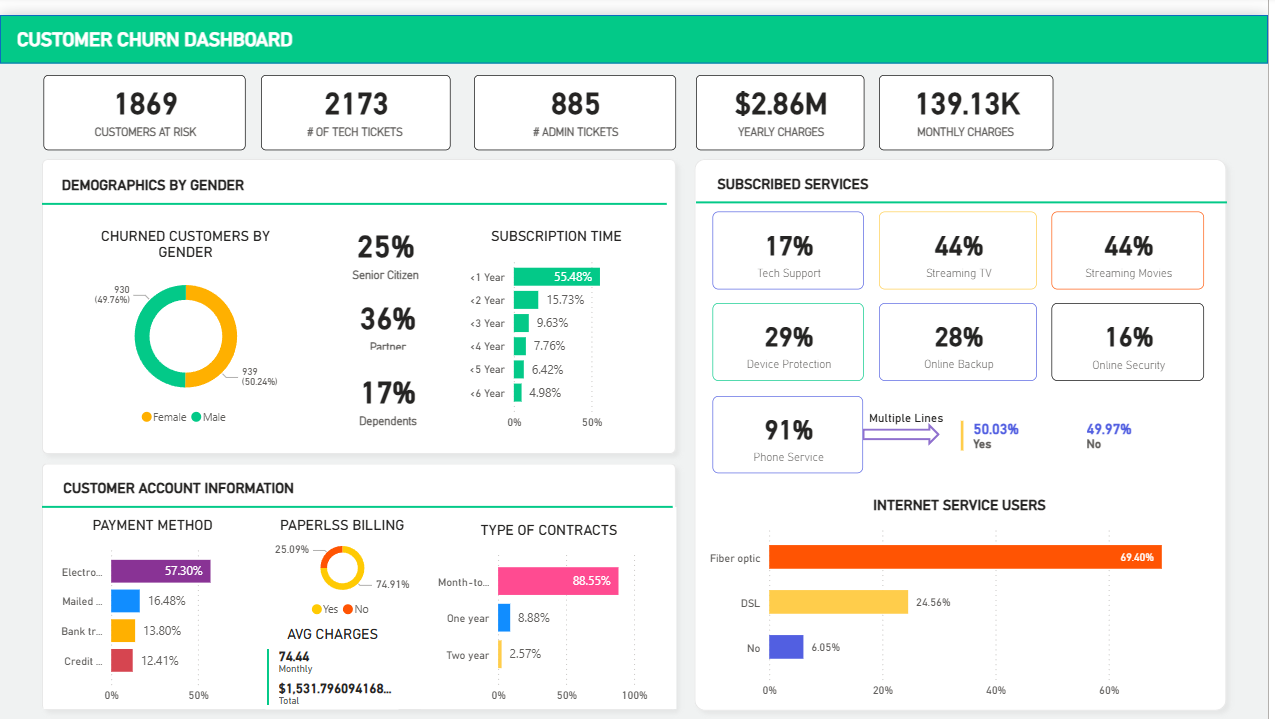

Layout of this report page (visuals, bound fields, positions):
{"tool":"powerbi","page":{"name":"Churn Dashboard","canvas":[1280,720],"ordinal":0},"visuals":[{"type":"shape","box":[0,0,1280,49],"z":0},{"type":"shape","box":[34,136,658,316],"z":0,"group":"g1"},{"type":"card","fields":{"Values":["Churn.% Tech Support"]},"box":[720,199,152.4,78.4],"z":0,"group":"g4"},{"type":"shape","box":[692,136,555,575],"z":1000},{"type":"card","fields":{"Values":["Churn.% Streaming TV"]},"box":[887.4,199,159.5,78.4],"z":1000,"group":"g4"},{"type":"donutChart","title":"CHURNED CUSTOMERS BY GENDER","fields":{"Category":["01 Churn-Dataset.gender"],"Y":["CountNonNull(01 Churn-Dataset.gender)"]},"box":[61.1,204.4,252.2,223.4],"z":1000,"group":"g1"},{"type":"shape","box":[702,123,536,133],"z":1500,"group":"g3"},{"type":"shape","box":[42,430,636.8,133],"z":1500,"group":"g2"},{"type":"textbox","box":[12,8,438,33],"z":2000},{"type":"textbox","box":[703.8,145,522.6,38],"z":2000,"group":"g3"},{"type":"textbox","box":[42.7,146.1,630.9,47.3],"z":2000,"group":"g1"},{"type":"card","fields":{"Values":["Churn.% Streaming Movies"]},"box":[1062.8,199,154.2,78.4],"z":2000,"group":"g4"},{"type":"textbox","box":[44.2,452,636.8,38],"z":2000,"group":"g2"},{"type":"card","fields":{"Values":["Churn.% of Senior Citizen"]},"box":[330.5,204.4,118,77.5],"z":3000,"group":"g1"},{"type":"card","fields":{"Values":["Churn.% Device Protection"]},"box":[720,291.6,152.4,78.4],"z":3000,"group":"g4"},{"type":"shape","box":[34,444,658,267],"z":3000},{"type":"card","fields":{"Values":["CountNonNull(01 Churn-Dataset.customerID)"]},"box":[44,60,204,76],"z":4000},{"type":"card","fields":{"Values":["Churn.% of partner"]},"box":[329.5,278.9,125.5,74.5],"z":4000,"group":"g1"},{"type":"card","fields":{"Values":["Churn.% Online Backup"]},"box":[887.4,291.6,159.5,78.4],"z":4000,"group":"g4"},{"type":"shape","box":[42.7,151.1,630.9,78.5],"z":5000,"group":"g1"},{"type":"card","fields":{"Values":["Churn.% Online Sec"]},"box":[1062.8,291.6,154.2,78.4],"z":5000,"group":"g4"},{"type":"card","fields":{"Values":["Churn.% Phone Service"]},"box":[720,385,152,78],"z":5000},{"type":"card","fields":{"Values":["Sum(01 Churn-Dataset.numTechTickets)"]},"box":[264,60,191,76],"z":6000},{"type":"card","fields":{"Values":["Churn.% of Dependents"]},"box":[329.5,351.4,125.5,79.5],"z":6000,"group":"g1"},{"type":"clusteredBarChart","title":"SUBSCRIPTION TIME","fields":{"Y":["CountNonNull(Churn.Churn)"],"Category":["Churn.Tenure(in years)"]},"box":[466.9,204.4,190.5,220.4],"z":7000,"group":"g1"},{"type":"clusteredBarChart","title":"PAYMENT METHOD","fields":{"Y":["CountNonNull(Churn.PaymentMethod)"],"Category":["Churn.PaymentMethod"]},"box":[44,497,220,204],"z":7000},{"type":"card","fields":{"Values":["Sum(01 Churn-Dataset.TotalCharges)"]},"box":[702,60,170,76],"z":8000},{"type":"card","fields":{"Values":["Sum(01 Churn-Dataset.numAdminTickets)"]},"box":[479,60,204,76],"z":9000},{"type":"group","id":"g1","title":"Group 1","box":[34,136,658,316],"z":10000},{"type":"card","fields":{"Values":["Sum(01 Churn-Dataset.MonthlyCharges)"]},"box":[887,60,176,76],"z":11000},{"type":"donutChart","title":"PAPERLSS BILLING","fields":{"Category":["Churn.PaperlessBilling"],"Y":["CountNonNull(Churn.PaperlessBilling)"]},"box":[248,497,194,126],"z":12000},{"type":"multiRowCard","title":"AVG CHARGES","fields":{"Values":["Avg(Churn.MonthlyCharges)","Avg(Churn.TotalCharges)"]},"box":[264,606,143,95],"z":13000},{"type":"clusteredBarChart","title":"TYPE OF CONTRACTS","fields":{"Category":["Churn.Contract"],"Y":["CountNonNull(Churn.Contract)"]},"box":[426,497,257,204],"z":14000},{"type":"group","id":"g2","title":"Group 2","box":[42,430,639,133],"z":15000},{"type":"group","id":"g3","title":"Group 2","box":[702,123,536,133],"z":16000},{"type":"group","id":"g4","title":"Group 3","box":[720,199,497,171],"z":17000},{"type":"shape","box":[871,412,78,23],"z":18000},{"type":"textbox","box":[872,391,300,30],"z":19000},{"type":"multiRowCard","fields":{"Values":["Churn.% Yes-Multiple Lines","Churn.% No-Multiple Lines"]},"box":[965,404,252,53],"z":20000},{"type":"barChart","title":"INTERNET SERVICE USERS","fields":{"Y":["CountNonNull(Churn.InternetService)"],"Category":["Churn.InternetService"]},"box":[710,471,517,230],"z":21000}]}

Visuals, with their boxes in screenshot pixels (x1, y1, x2, y2), scaled from the page's 1280x720 canvas onto the 1275x719 screenshot:
shape: 0/0/1274/49
shape: 34/136/689/451
card - Churn.% Tech Support: 717/199/869/277
shape: 689/136/1242/710
card - Churn.% Streaming TV: 884/199/1043/277
"CHURNED CUSTOMERS BY GENDER" donutChart: 61/204/312/427
shape: 699/123/1233/256
shape: 42/429/676/562
textbox: 12/8/448/41
textbox: 701/145/1222/183
textbox: 43/146/671/193
card - Churn.% Streaming Movies: 1059/199/1212/277
textbox: 44/451/678/489
card - Churn.% of Senior Citizen: 329/204/447/282
card - Churn.% Device Protection: 717/291/869/369
shape: 34/443/689/710
card - CountNonNull(01 Churn-Dataset.customerID): 44/60/247/136
card - Churn.% of partner: 328/279/453/353
card - Churn.% Online Backup: 884/291/1043/369
shape: 43/151/671/229
card - Churn.% Online Sec: 1059/291/1212/369
card - Churn.% Phone Service: 717/384/869/462
card - Sum(01 Churn-Dataset.numTechTickets): 263/60/453/136
card - Churn.% of Dependents: 328/351/453/430
"SUBSCRIPTION TIME" clusteredBarChart: 465/204/655/424
"PAYMENT METHOD" clusteredBarChart: 44/496/263/700
card - Sum(01 Churn-Dataset.TotalCharges): 699/60/869/136
card - Sum(01 Churn-Dataset.numAdminTickets): 477/60/680/136
"Group 1" group: 34/136/689/451
card - Sum(01 Churn-Dataset.MonthlyCharges): 884/60/1059/136
"PAPERLSS BILLING" donutChart: 247/496/440/622
"AVG CHARGES" multiRowCard: 263/605/405/700
"TYPE OF CONTRACTS" clusteredBarChart: 424/496/680/700
"Group 2" group: 42/429/678/562
"Group 2" group: 699/123/1233/256
"Group 3" group: 717/199/1212/369
shape: 868/411/945/434
textbox: 869/390/1167/420
multiRowCard - Churn.% Yes-Multiple Lines x Churn.% No-Multiple Lines: 961/403/1212/456
"INTERNET SERVICE USERS" barChart: 707/470/1222/700
